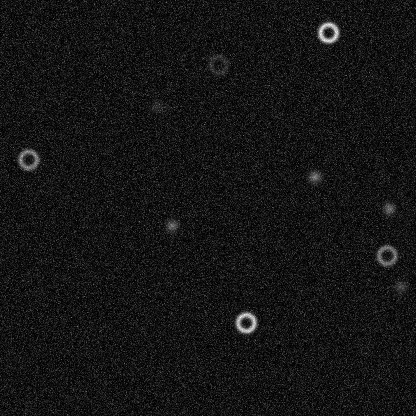Ring: (206, 52, 230, 76), (16, 147, 40, 171), (316, 20, 340, 44), (374, 243, 398, 267), (233, 310, 257, 334)
Spot: (306, 168, 322, 184), (149, 99, 165, 115), (163, 217, 179, 233), (392, 278, 408, 294), (381, 200, 397, 216)
